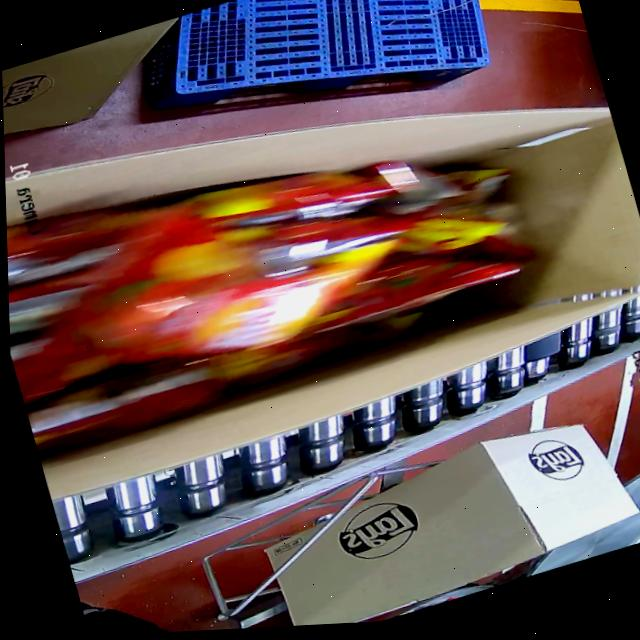MASALA: (4, 95, 526, 458)
